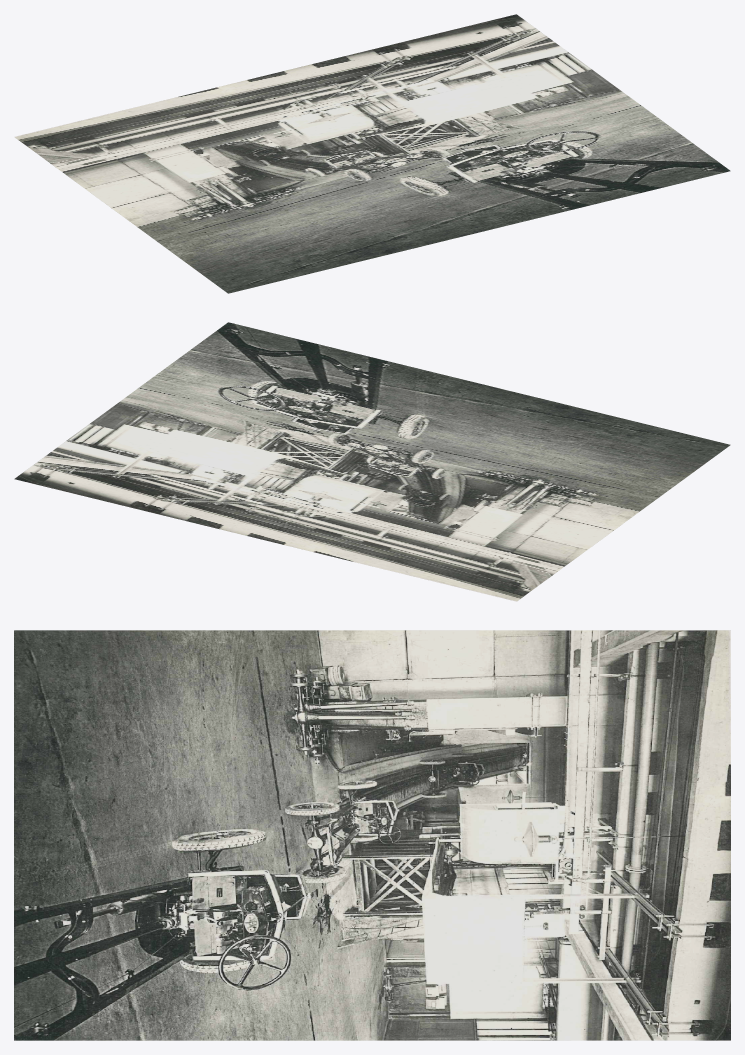
The model's file is Esercizio 1_MC.obj.
The picture shows the model from 3 angles, top to bottom: view 1: azimuth 30°, elevation 25°; view 2: azimuth 150°, elevation 25°; view 3: azimuth 270°, elevation 25°; orthographic projection. The views are drawn at different scales.
Parts seen in each view (by area): view 1: Plane002; view 2: Plane002; view 3: Plane002.
Part boxes in pixels (x1,y1,x2,y2): Plane002: [14, 14, 730, 293]; Plane002: [14, 322, 730, 601]; Plane002: [14, 630, 730, 1040].
Size of the model in its own units: 6.56 by 0 by 4.85.
